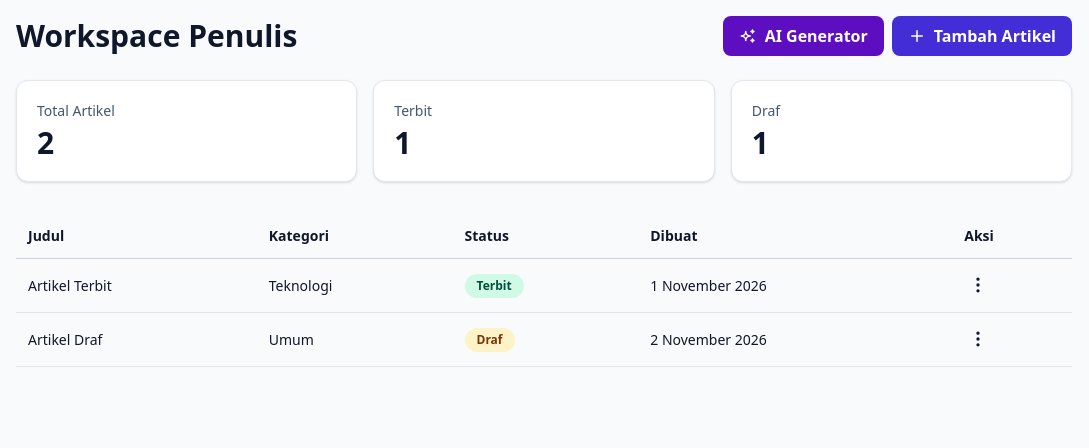
Test: AuthorDashboard › menu kebab: buka, tutup, dan isi menu sesuai status
The width and height of the screenshot is (1089, 448).
Later steps or results of the test are not shown.
Expected: the text "Artikel Terbit" is shown, [16,259,257,312]
Click the button named "Menu aksi Artikel Terbit" at (978,285), box [964,271,992,299]
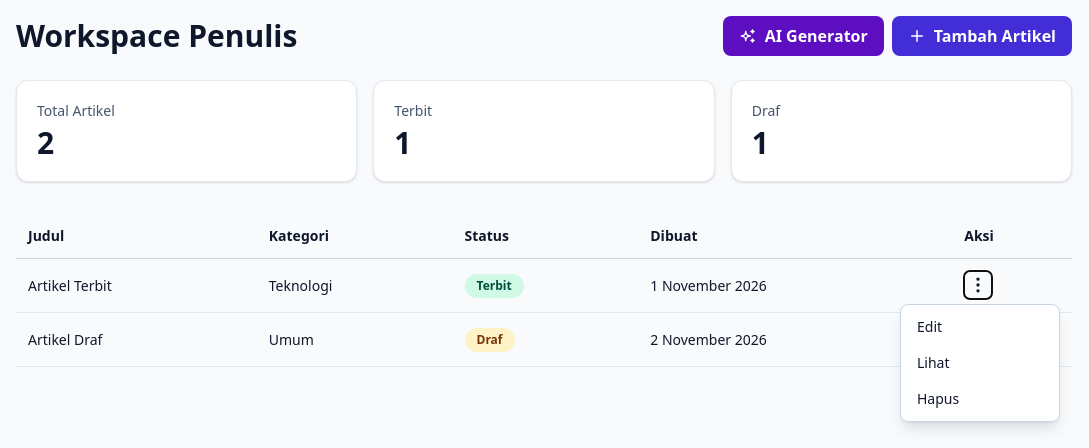
Expected: the menu item "Edit" is shown, [901,309,1059,345]
Expected: the menu item "Hapus" is shown, [901,381,1059,417]
Click the button named "Menu aksi Artikel Terbit" at (978,285), box [964,271,992,299]
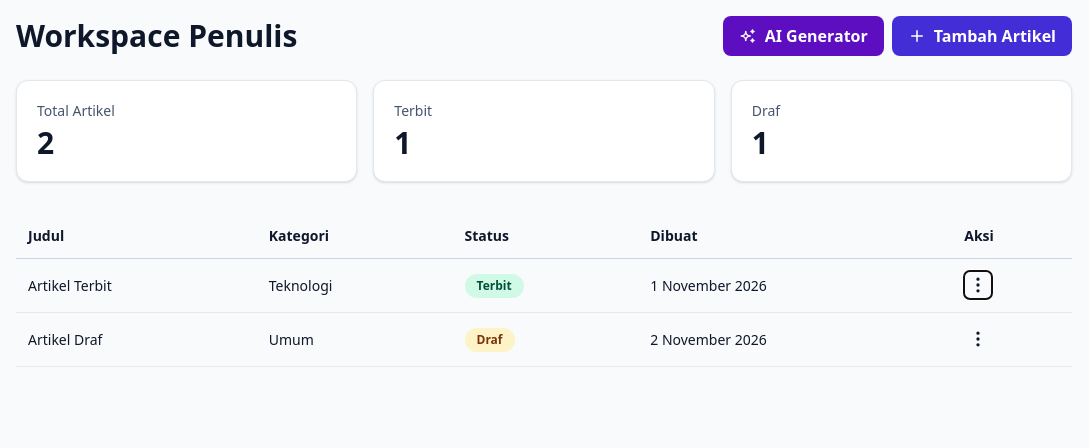
Expected: the menu is gone
